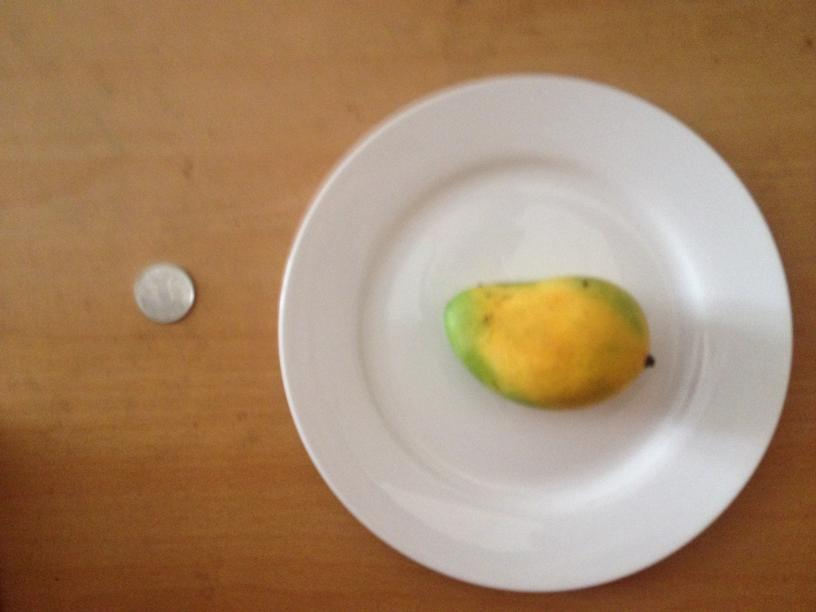coin: (130, 264, 198, 324)
mango: (443, 276, 648, 410)
